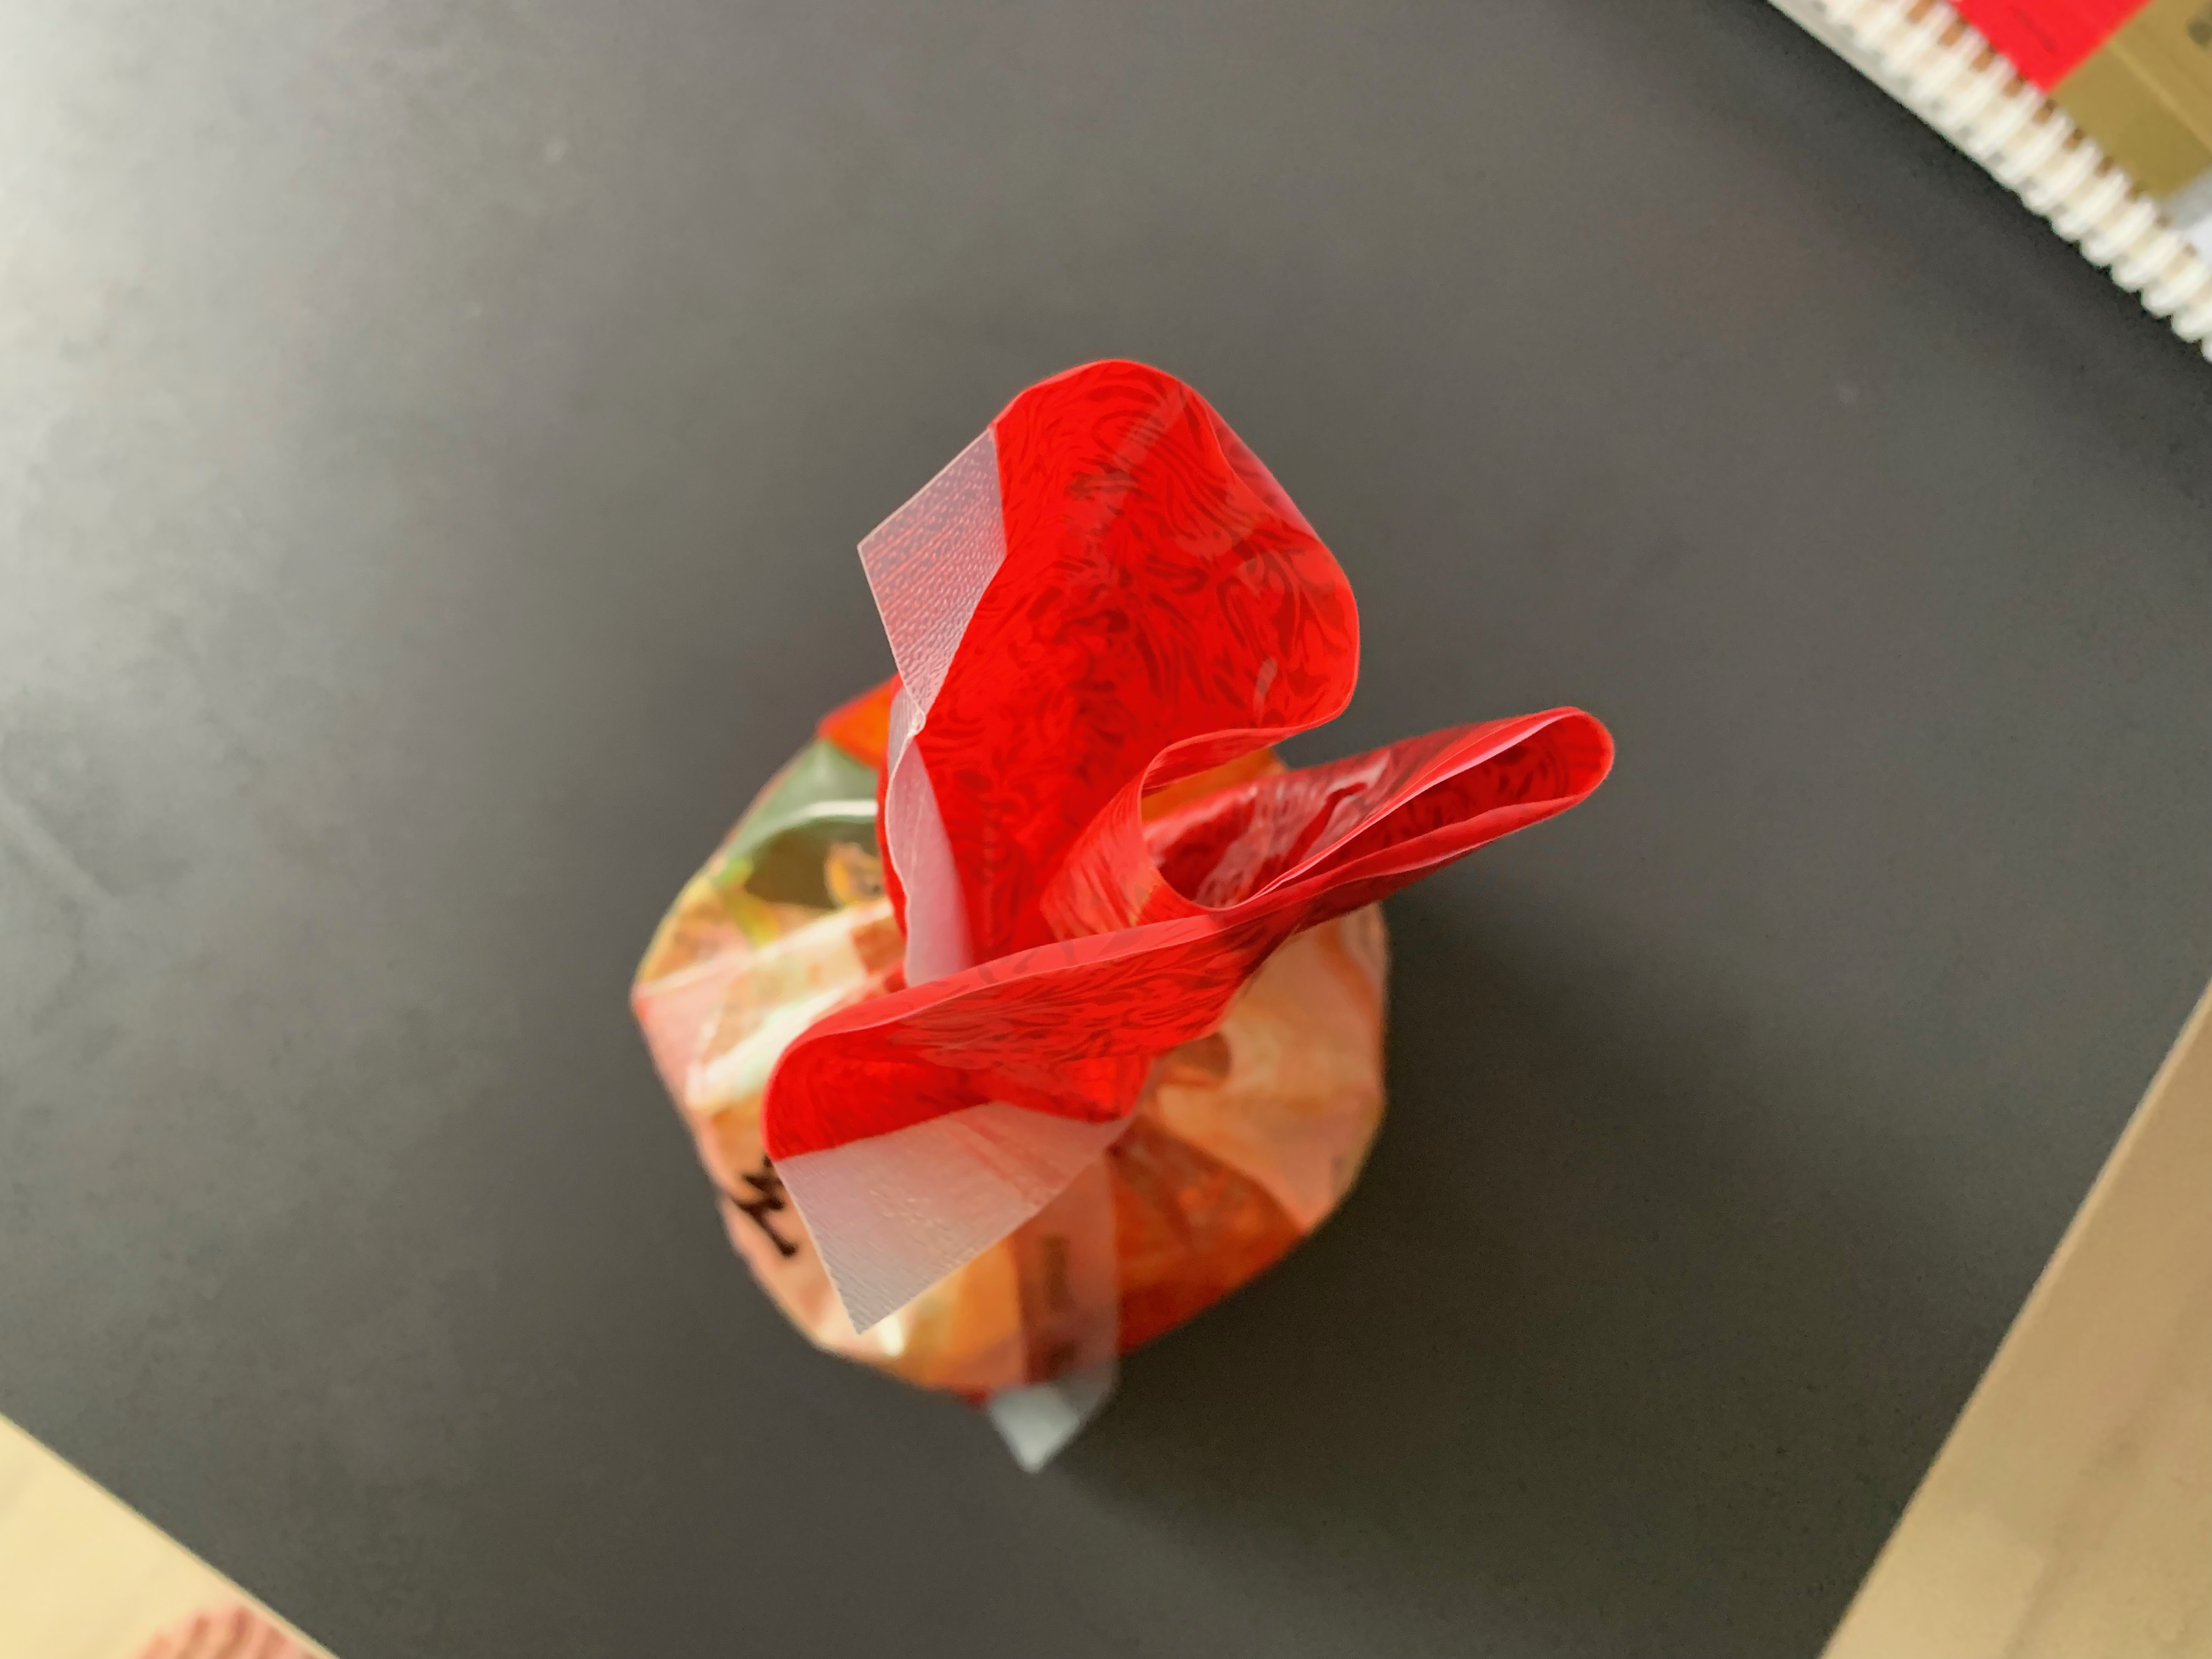kimchi: (627, 357, 1618, 1399)
